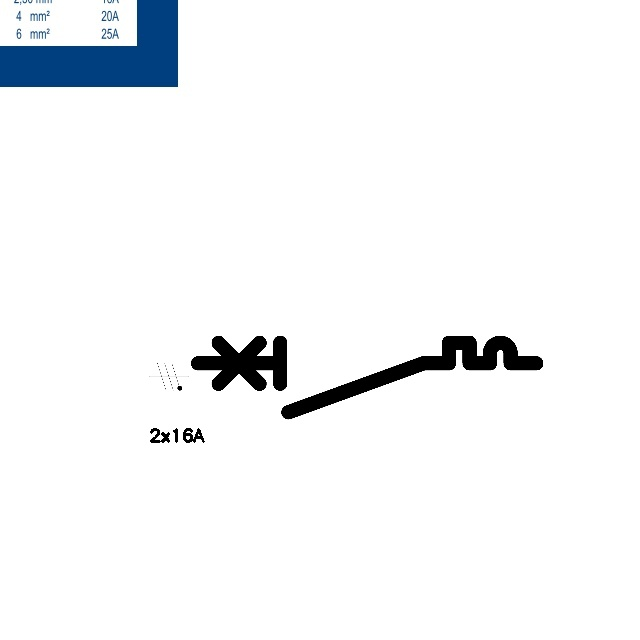interruptor_termomagnetico: (189, 334, 544, 421)
